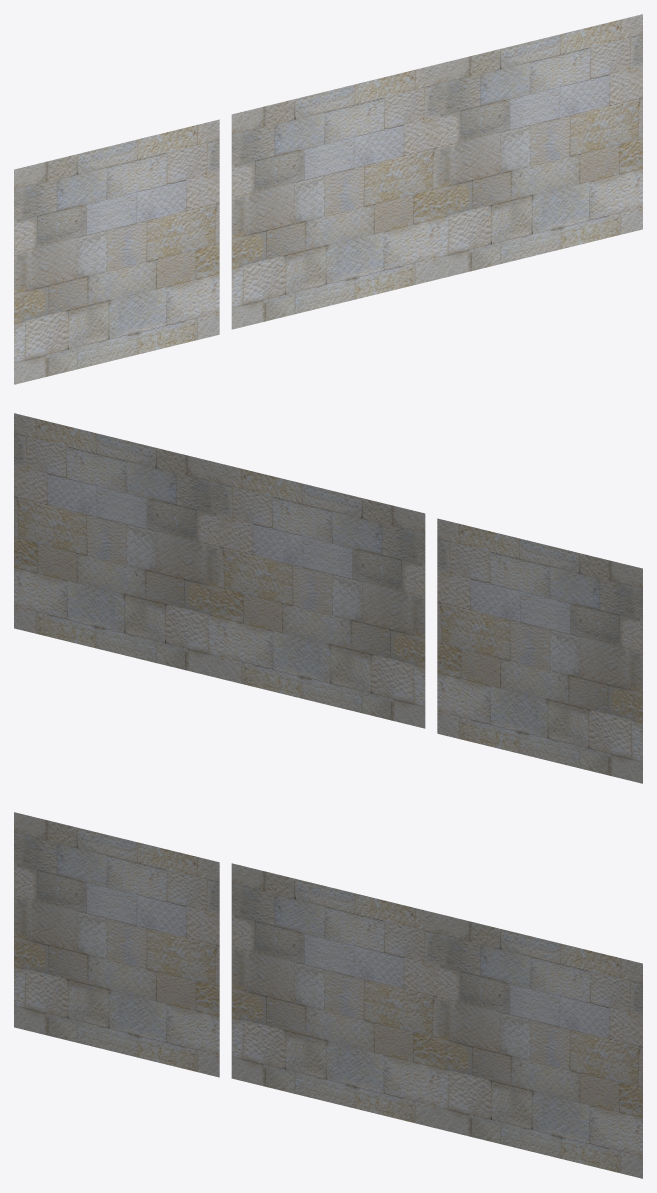
File: Stones.glb
The picture shows the model from 3 angles, top to bottom: view 1: azimuth 30°, elevation 25°; view 2: azimuth 150°, elevation 25°; view 3: azimuth 330°, elevation 25°; orthographic projection.
Parts seen in each view (by area): view 1: main_change, main_change2; view 2: main_change, main_change2; view 3: main_change, main_change2.
Boxes of the visible parts, <box> form: main_change: <box>231,14,642,329</box>; main_change2: <box>14,119,219,384</box>; main_change: <box>14,413,425,728</box>; main_change2: <box>437,518,642,783</box>; main_change: <box>231,863,642,1178</box>; main_change2: <box>14,812,219,1077</box>.
Size of the model in its own units: 6.12 by 2.02 by 6.74e-07.
Materials: 1 (1 with a texture image).
